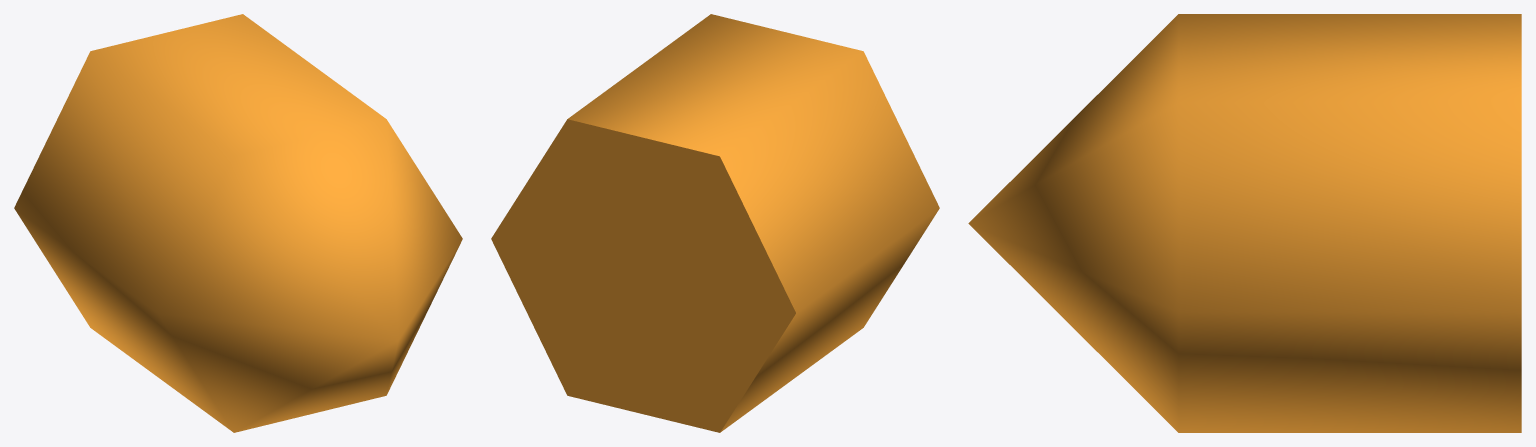
The model's file is Bullet.fbx.
The picture shows the model from 3 angles, left to right: view 1: azimuth 30°, elevation 25°; view 2: azimuth 150°, elevation 25°; view 3: azimuth 270°, elevation 25°; orthographic projection. The views are drawn at different scales.
Visible parts, largest first — view 1: Sphere; view 2: Sphere; view 3: Sphere.
Part boxes in pixels (x1=…): Sphere: x1=14, y1=14, x2=462, y2=432; Sphere: x1=491, y1=14, x2=939, y2=432; Sphere: x1=968, y1=14, x2=1521, y2=432.
Bounding box in the file's own units: 3.18 × 2.75 × 4.18.
